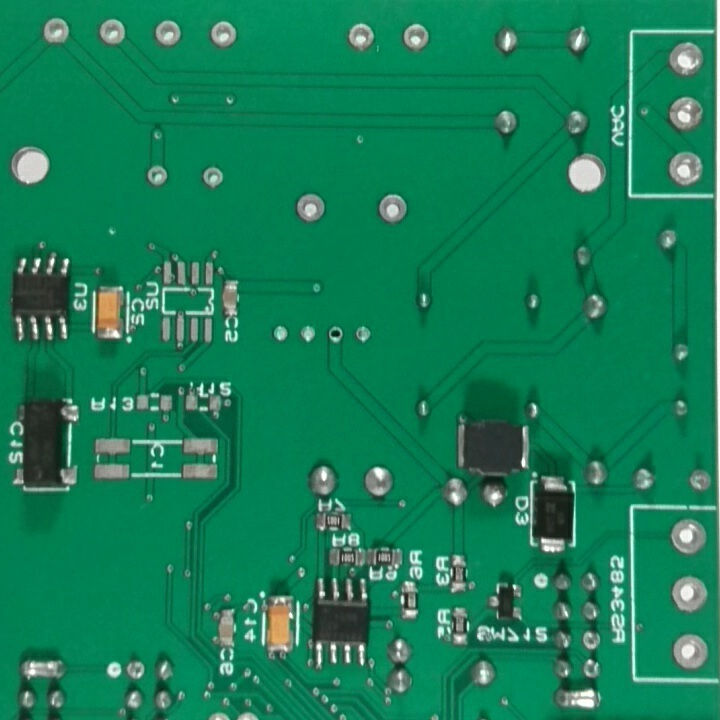F: (664, 514, 712, 558), (669, 572, 710, 618), (669, 631, 711, 675), (667, 146, 707, 189), (667, 39, 708, 80), (667, 94, 707, 135), (33, 13, 75, 49), (343, 18, 377, 57), (376, 189, 410, 228), (294, 189, 329, 226), (399, 20, 432, 55), (150, 15, 184, 48), (207, 20, 241, 52), (98, 16, 129, 50), (144, 163, 171, 192), (687, 466, 713, 496), (202, 163, 226, 194), (578, 629, 604, 655), (123, 657, 147, 682), (352, 323, 374, 348), (300, 321, 319, 346), (325, 323, 345, 346), (269, 323, 290, 344)
P: (552, 684, 607, 713), (17, 655, 67, 683)
